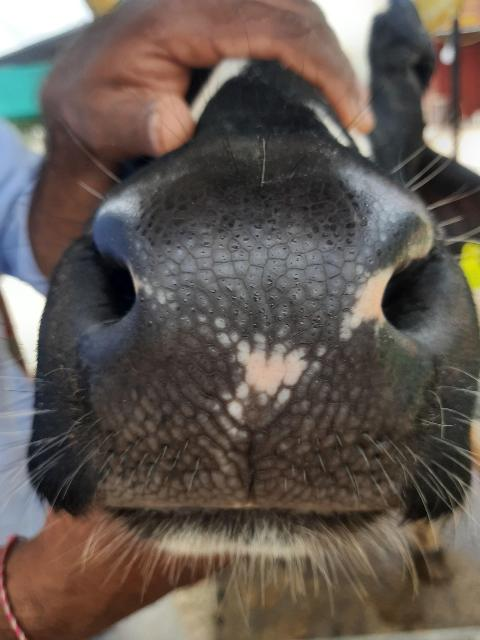Muzzle: (120, 186, 426, 504)
